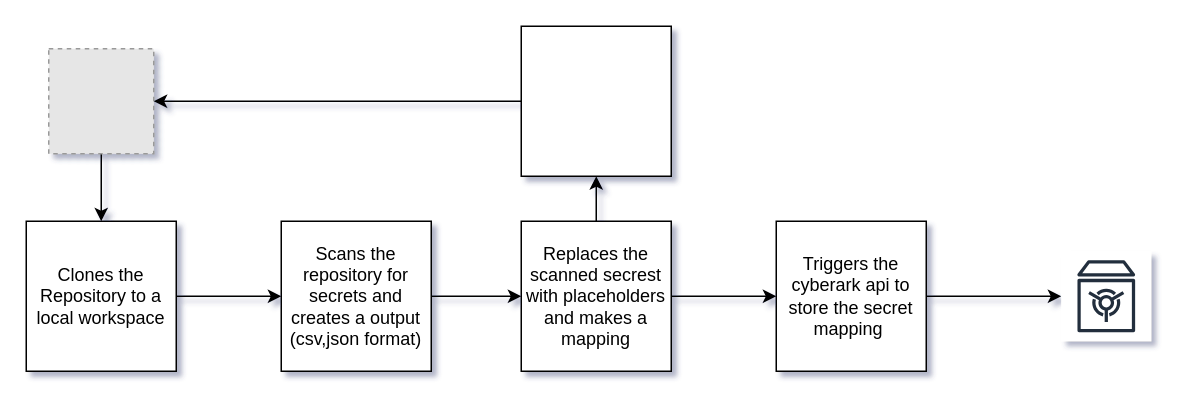
Some shapes in this 1187 by 408 pixel diagram are drawn without their labels. Grey dashed boxes stand in for pictures. Here are the shapes that lost their labels. From the top down, the centre of each, then its label:
(595,100): creates a test branch and pushes to gitlab
(1105,295): Vault
